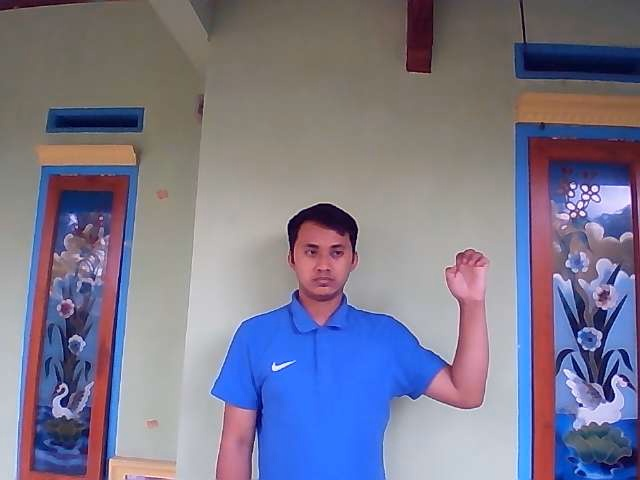E: (444, 247, 490, 307)
